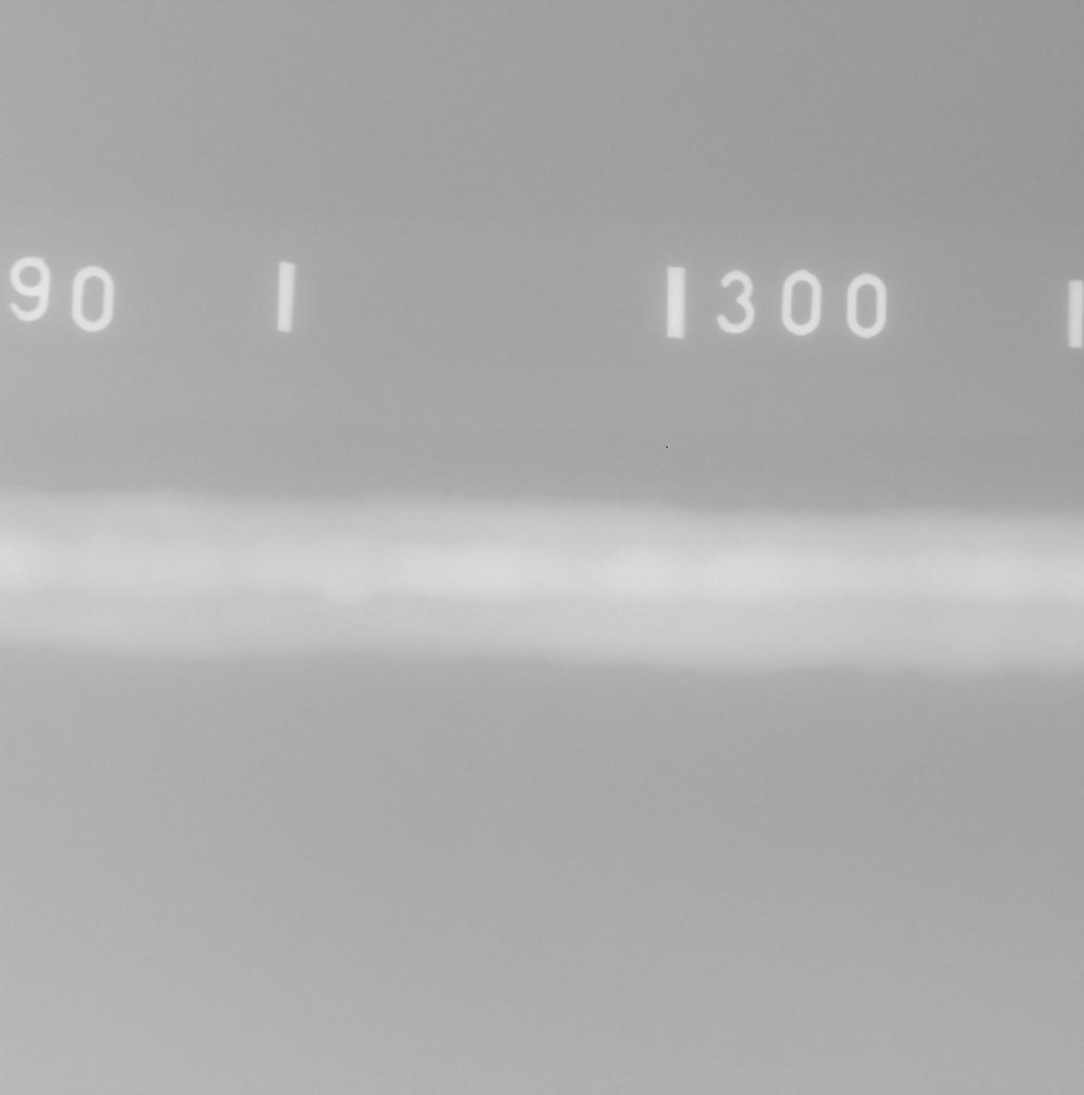Pore/Porosity: (255, 595, 261, 601)
